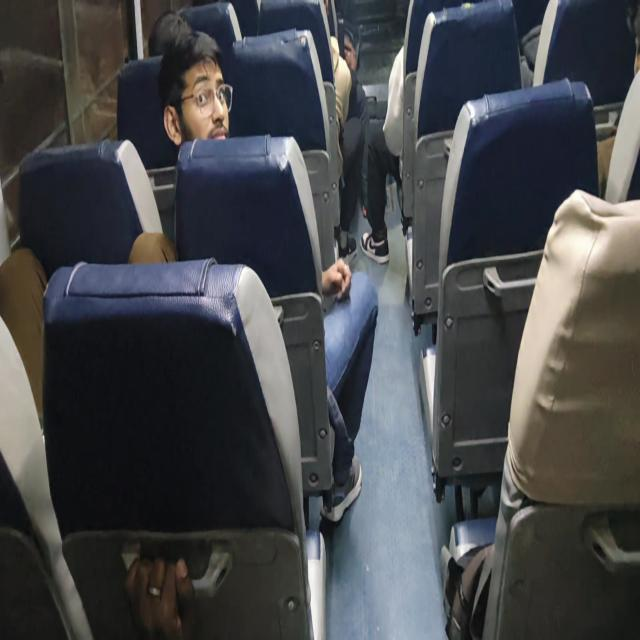person: (170, 61, 230, 150), (137, 22, 200, 64), (613, 12, 640, 77)
